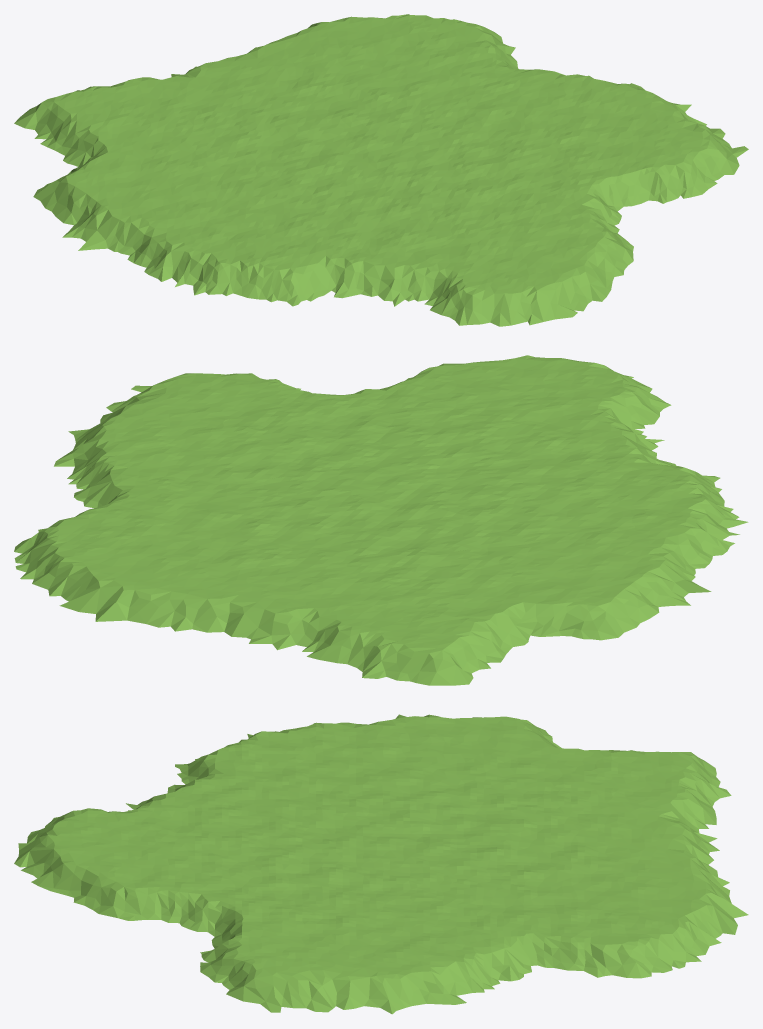
The model's file is MT_Island_H_a_02_LOD.fbx.
3 views of the same model, one above another, from view 1: azimuth 30°, elevation 25°; view 2: azimuth 150°, elevation 25°; view 3: azimuth 270°, elevation 25° (orthographic). The views are drawn at different scales.
Visible parts, largest first — view 1: MT_Island_H_a_02_LOD0; view 2: MT_Island_H_a_02_LOD0; view 3: MT_Island_H_a_02_LOD0.
Part boxes in pixels (box(x1,y1,x2,y2)): MT_Island_H_a_02_LOD0: box(14, 14, 748, 326); MT_Island_H_a_02_LOD0: box(14, 355, 748, 685); MT_Island_H_a_02_LOD0: box(14, 714, 748, 1014).
Size of what is drawn, in the model's own units: 41610 by 1413 by 43101.
